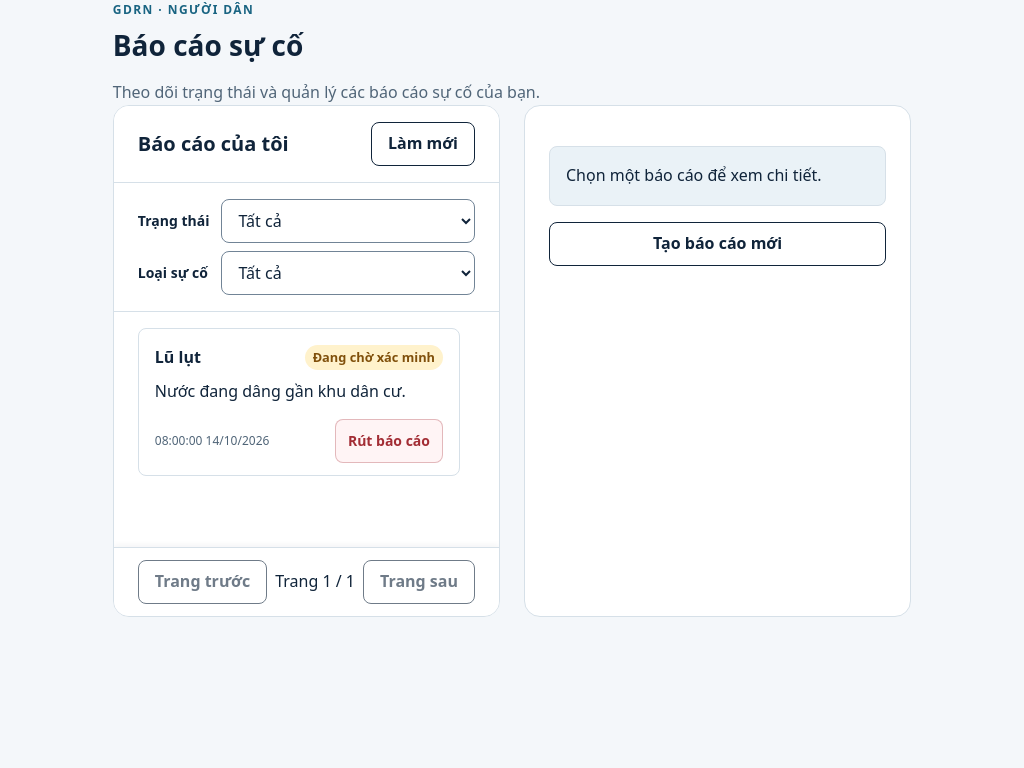
it: ReportingCitizenPage › shows a conflict and reloads the list when withdrawal returns 409
Check: the text "Nước đang dâng gần khu dân cư." is shown, box [155, 379, 443, 403]
Step 1. Click the button "Rút báo cáo" → (389, 441), box [335, 419, 443, 463]
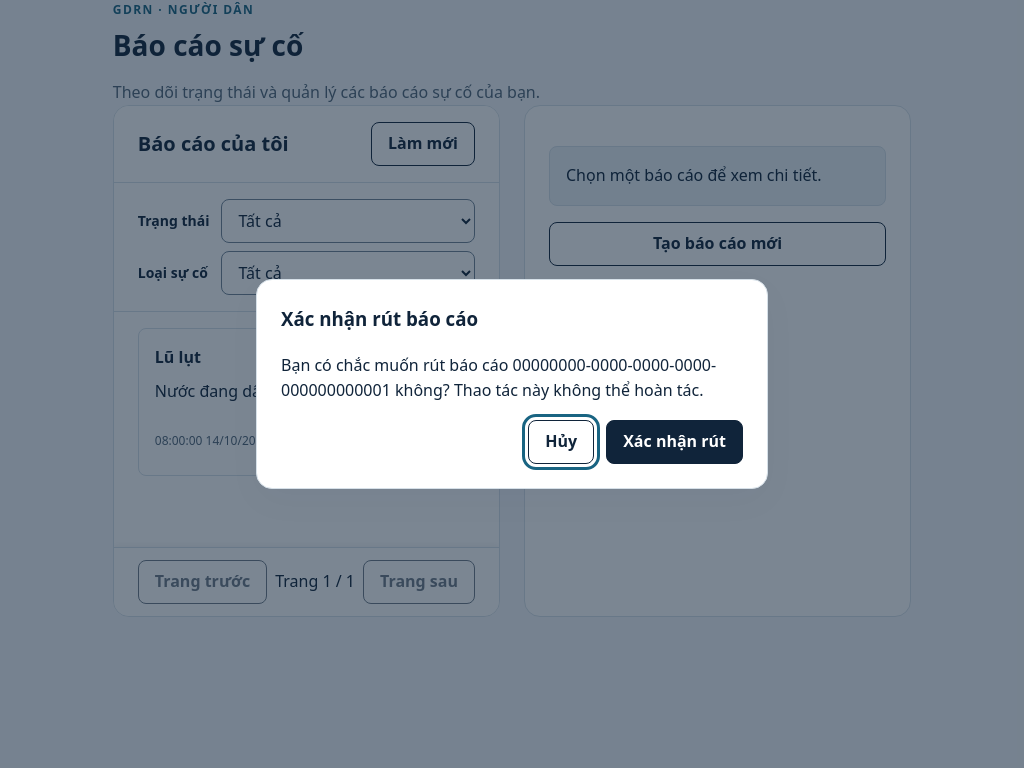
Step 2. Click the button "Xác nhận rút" → (675, 442), box [606, 420, 743, 464]
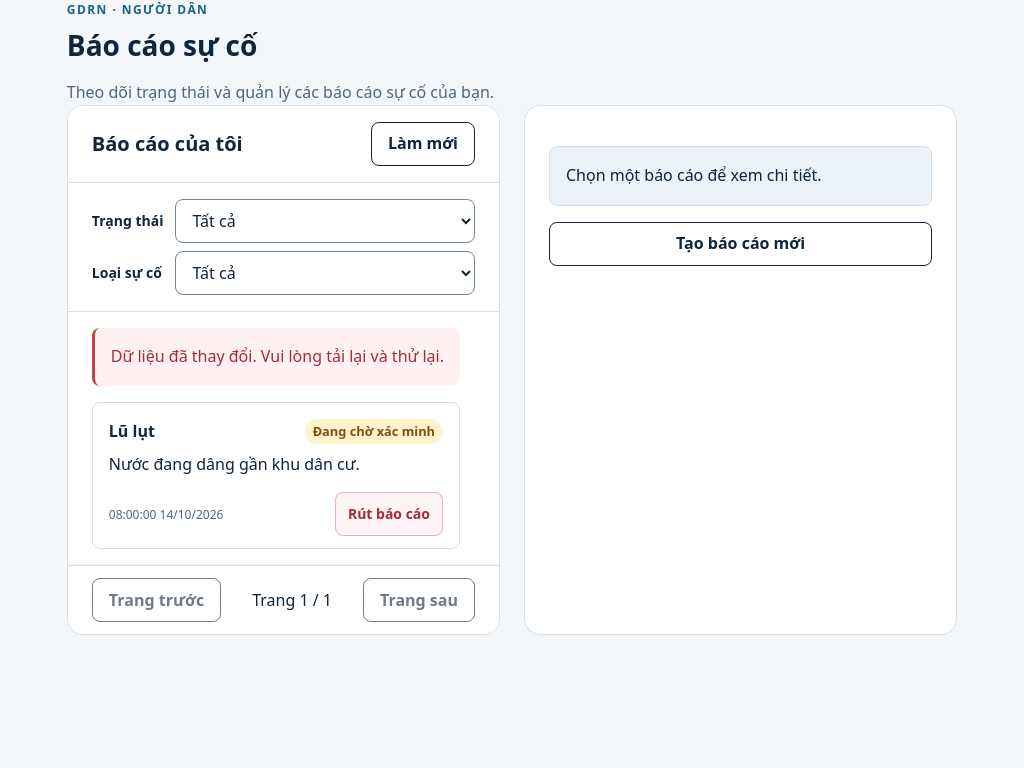
Check: the text "Dữ liệu đã thay đổi. Vui lòng tải lại và thử lại." is shown, box [92, 328, 460, 386]
